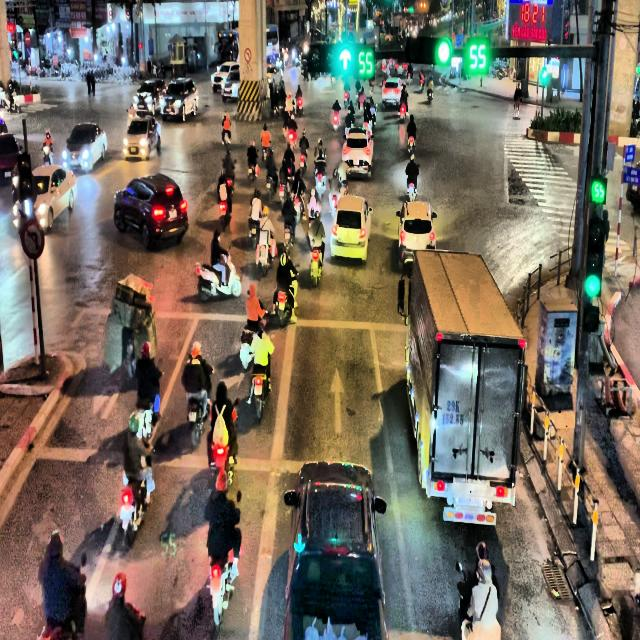lisence_plate: (442, 505, 497, 526), (439, 396, 466, 429), (344, 231, 351, 242), (353, 159, 361, 166), (169, 210, 177, 217)
